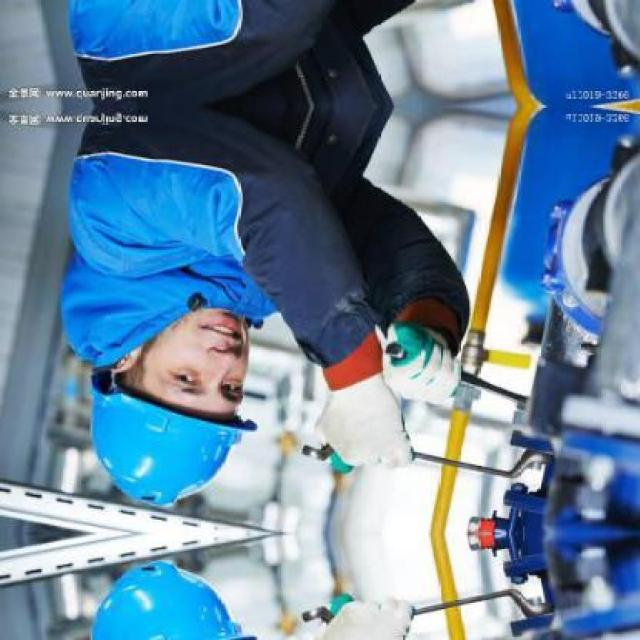safetyhelmet: (77, 348, 256, 509)
